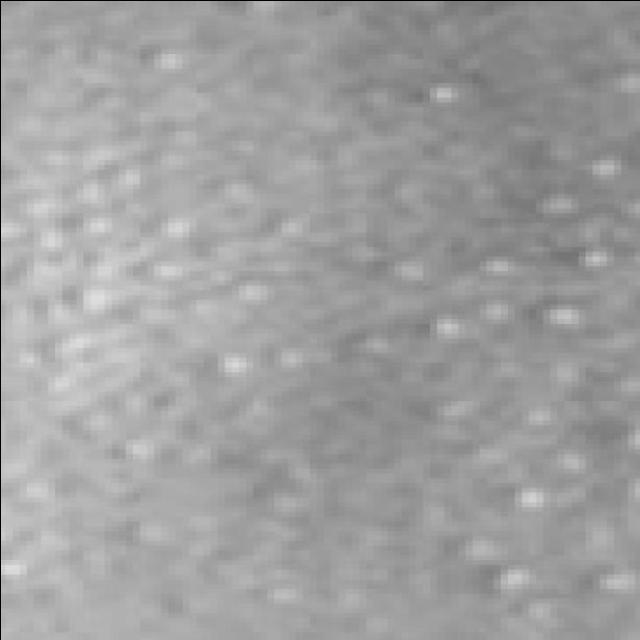whitehead: (0, 26, 640, 640)
